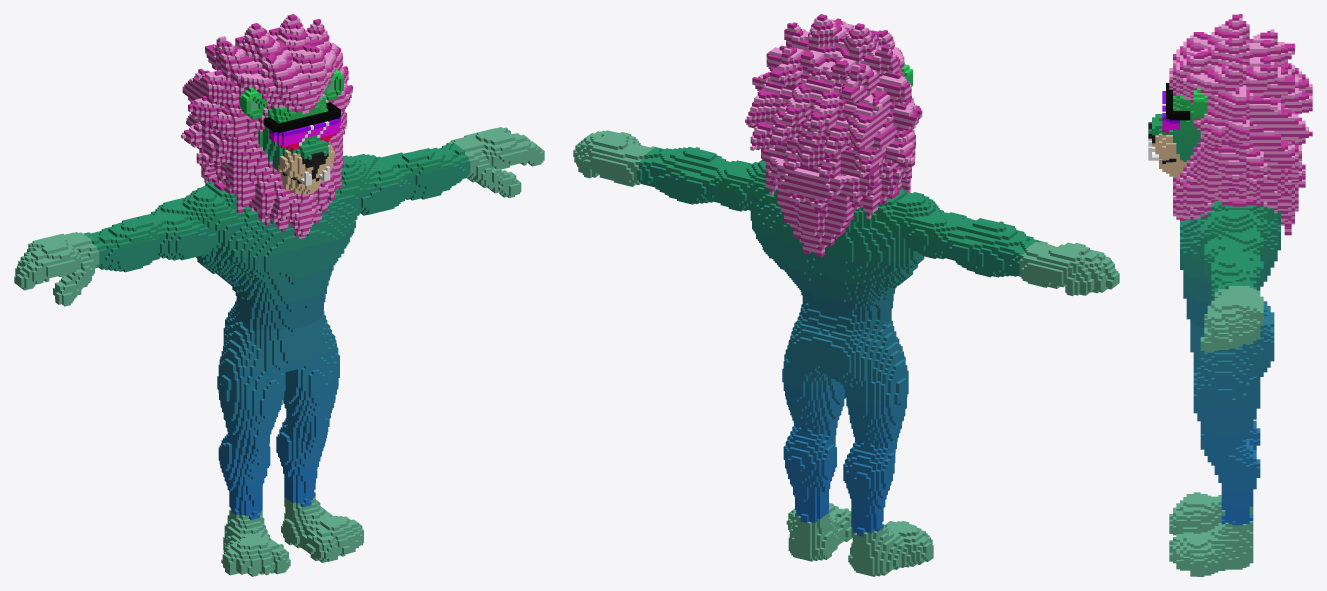
The model's file is 406-DqwZdV9E.glb.
3 renders of one model, left to right at view 1: azimuth 30°, elevation 25°; view 2: azimuth 150°, elevation 25°; view 3: azimuth 270°, elevation 25°, orthographic. The views are drawn at different scales.
Parts seen in each view (by area): view 1: ork; view 2: ork; view 3: ork.
Part boxes in pixels (x1,y1,x2,y2): ork: [14, 14, 544, 576]; ork: [573, 14, 1119, 576]; ork: [1148, 14, 1312, 576].
Size of the model in its own units: 17.2 by 16.5 by 4.7.
Materials: 4 (4 with a texture image).
